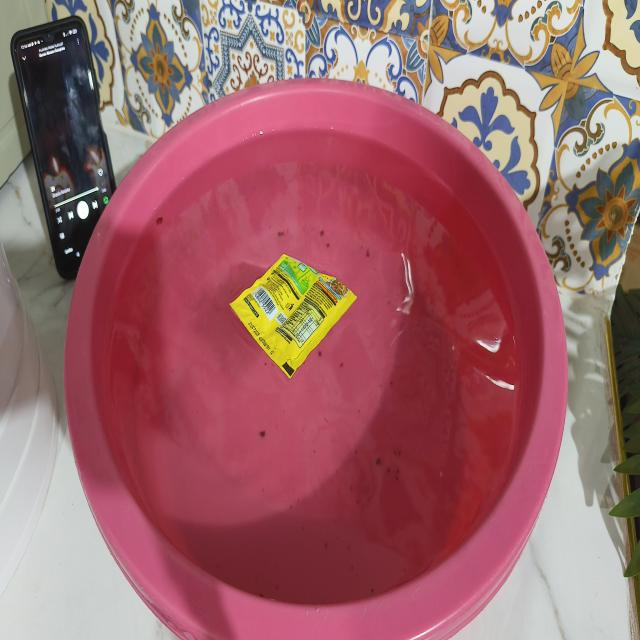Plastic Wrapper: (214, 211, 374, 408)
